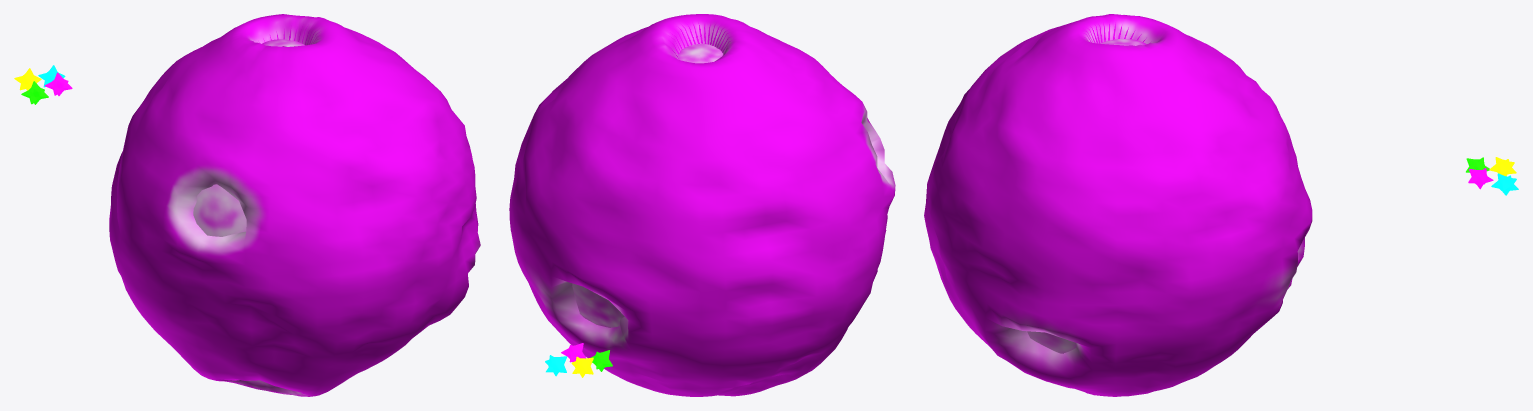
Rendered from FlorbusPlanet.fbx.
The picture shows the model from 3 angles, left to right: view 1: azimuth 30°, elevation 25°; view 2: azimuth 150°, elevation 25°; view 3: azimuth 270°, elevation 25°; orthographic projection. The views are drawn at different scales.
Parts seen in each view (by area): view 1: Planet, LavaSphere; view 2: Planet, LavaSphere; view 3: Planet, LavaSphere.
Part boxes in pixels (x1,y1,x2,y2): Planet: (109,14,480,396); LavaSphere: (193,39,304,236); Planet: (509,14,895,396); LavaSphere: (572,43,723,327); Planet: (924,14,1312,396); LavaSphere: (1027,39,1146,353).
Bounding box in the file's own units: 3020 × 3143 × 4696.
6 materials, 2 textured.
